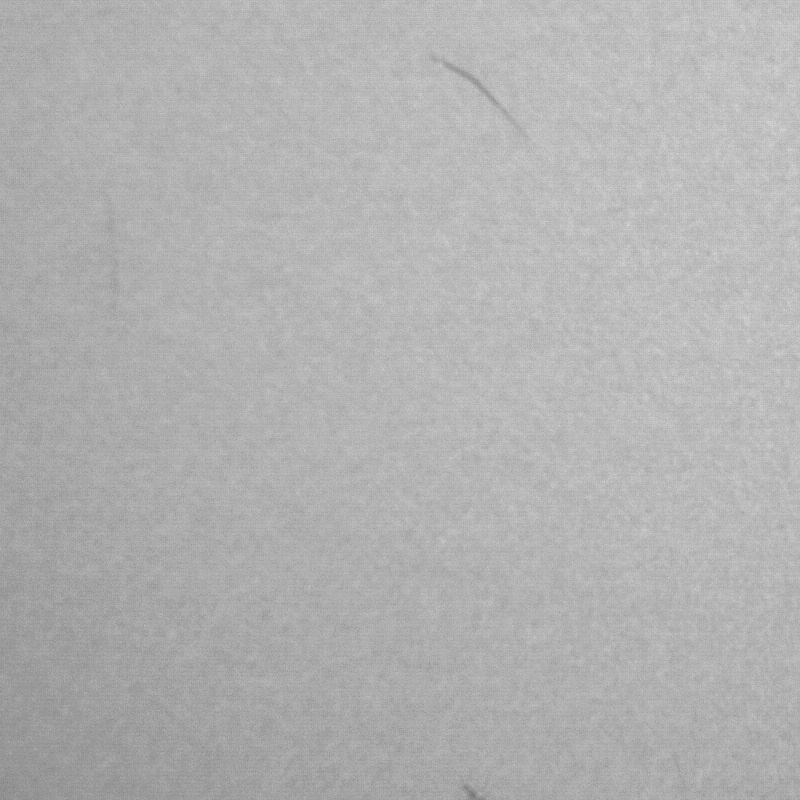defect: (435, 57, 536, 145), (105, 199, 124, 312), (457, 779, 484, 800)
